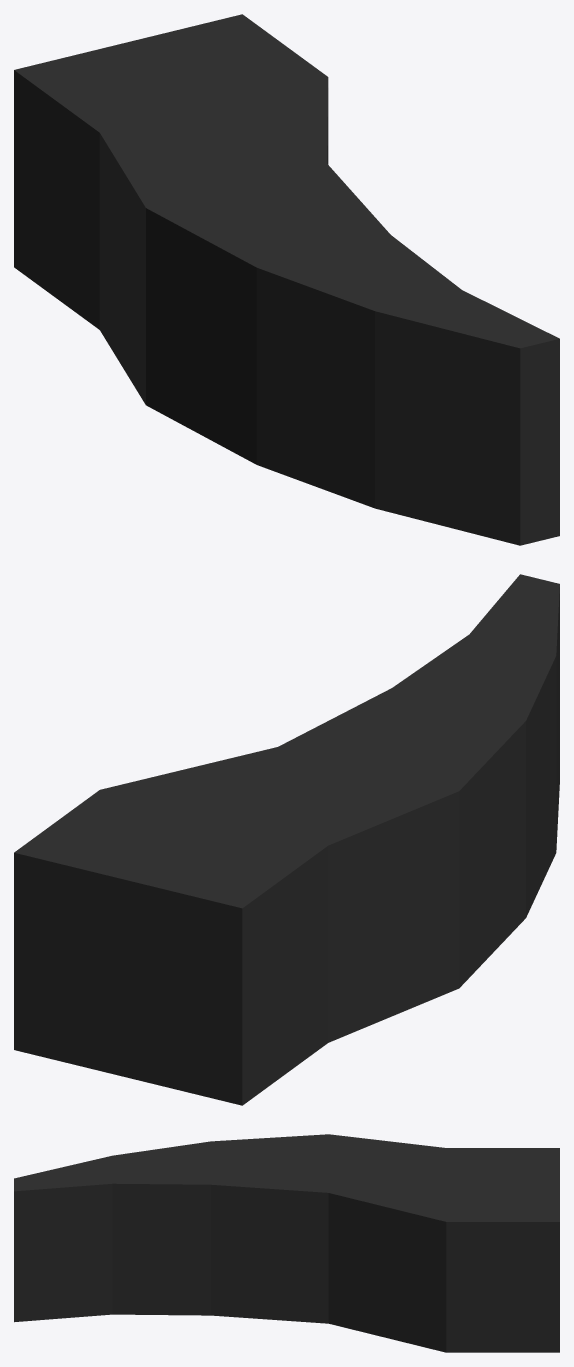
File: SniperRifle6_04_4.fbx
The picture shows the model from 3 angles, top to bottom: view 1: azimuth 30°, elevation 25°; view 2: azimuth 150°, elevation 25°; view 3: azimuth 270°, elevation 25°; orthographic projection. The views are drawn at different scales.
Visible parts, largest first — view 1: SniperRifle6_04_4; view 2: SniperRifle6_04_4; view 3: SniperRifle6_04_4.
Boxes of the visible parts, <box> form: SniperRifle6_04_4: <box>14,14,559,545</box>; SniperRifle6_04_4: <box>14,574,559,1105</box>; SniperRifle6_04_4: <box>14,1134,559,1352</box>.
Size of the model in its own units: 0.0103 by 0.00714 by 0.027.
